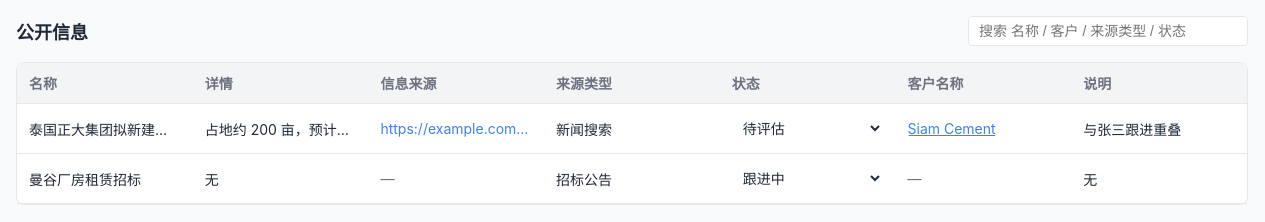
Test: OpportunityList › filters opportunities by opportunity_name via search input
Expected: the text "泰国正大集团拟新建食品加工厂" is shown, [17, 104, 193, 154]
Type "曼谷" into the search field with test id "search-input" at (1108, 31), box [968, 16, 1248, 46]
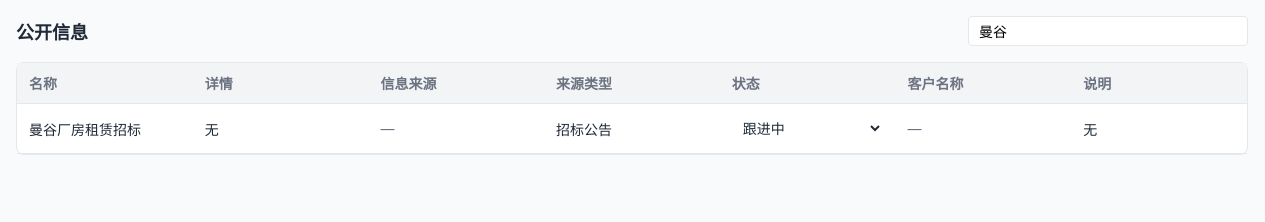
Expected: the text "曼谷厂房租赁招标" is shown, [17, 104, 193, 154]
Result: the text "泰国正大集团拟新建食品加工厂" is gone
